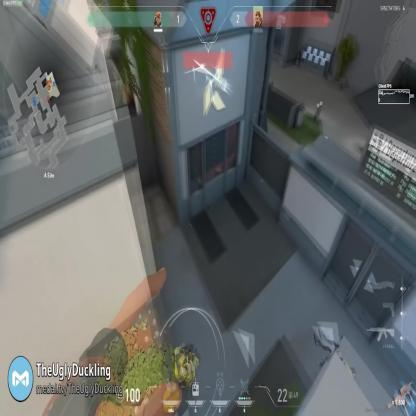enemy: (169, 338, 200, 386)
enemy_head: (176, 358, 186, 378)
